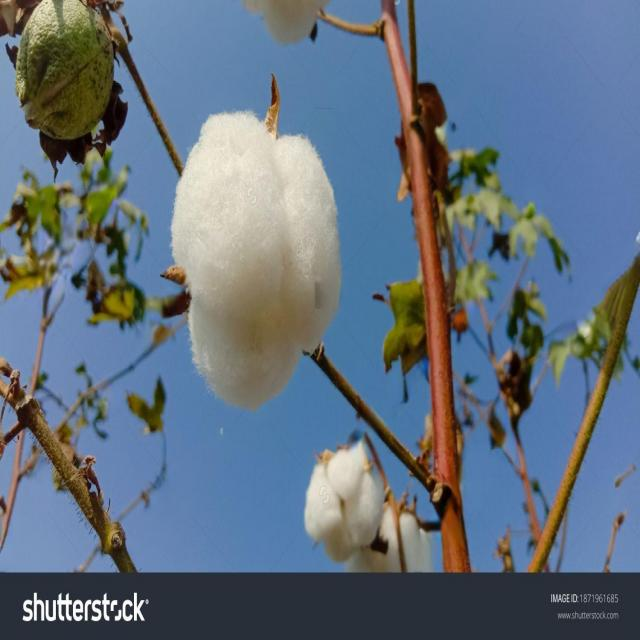Leaf: (168, 84, 353, 443), (294, 435, 387, 570)
